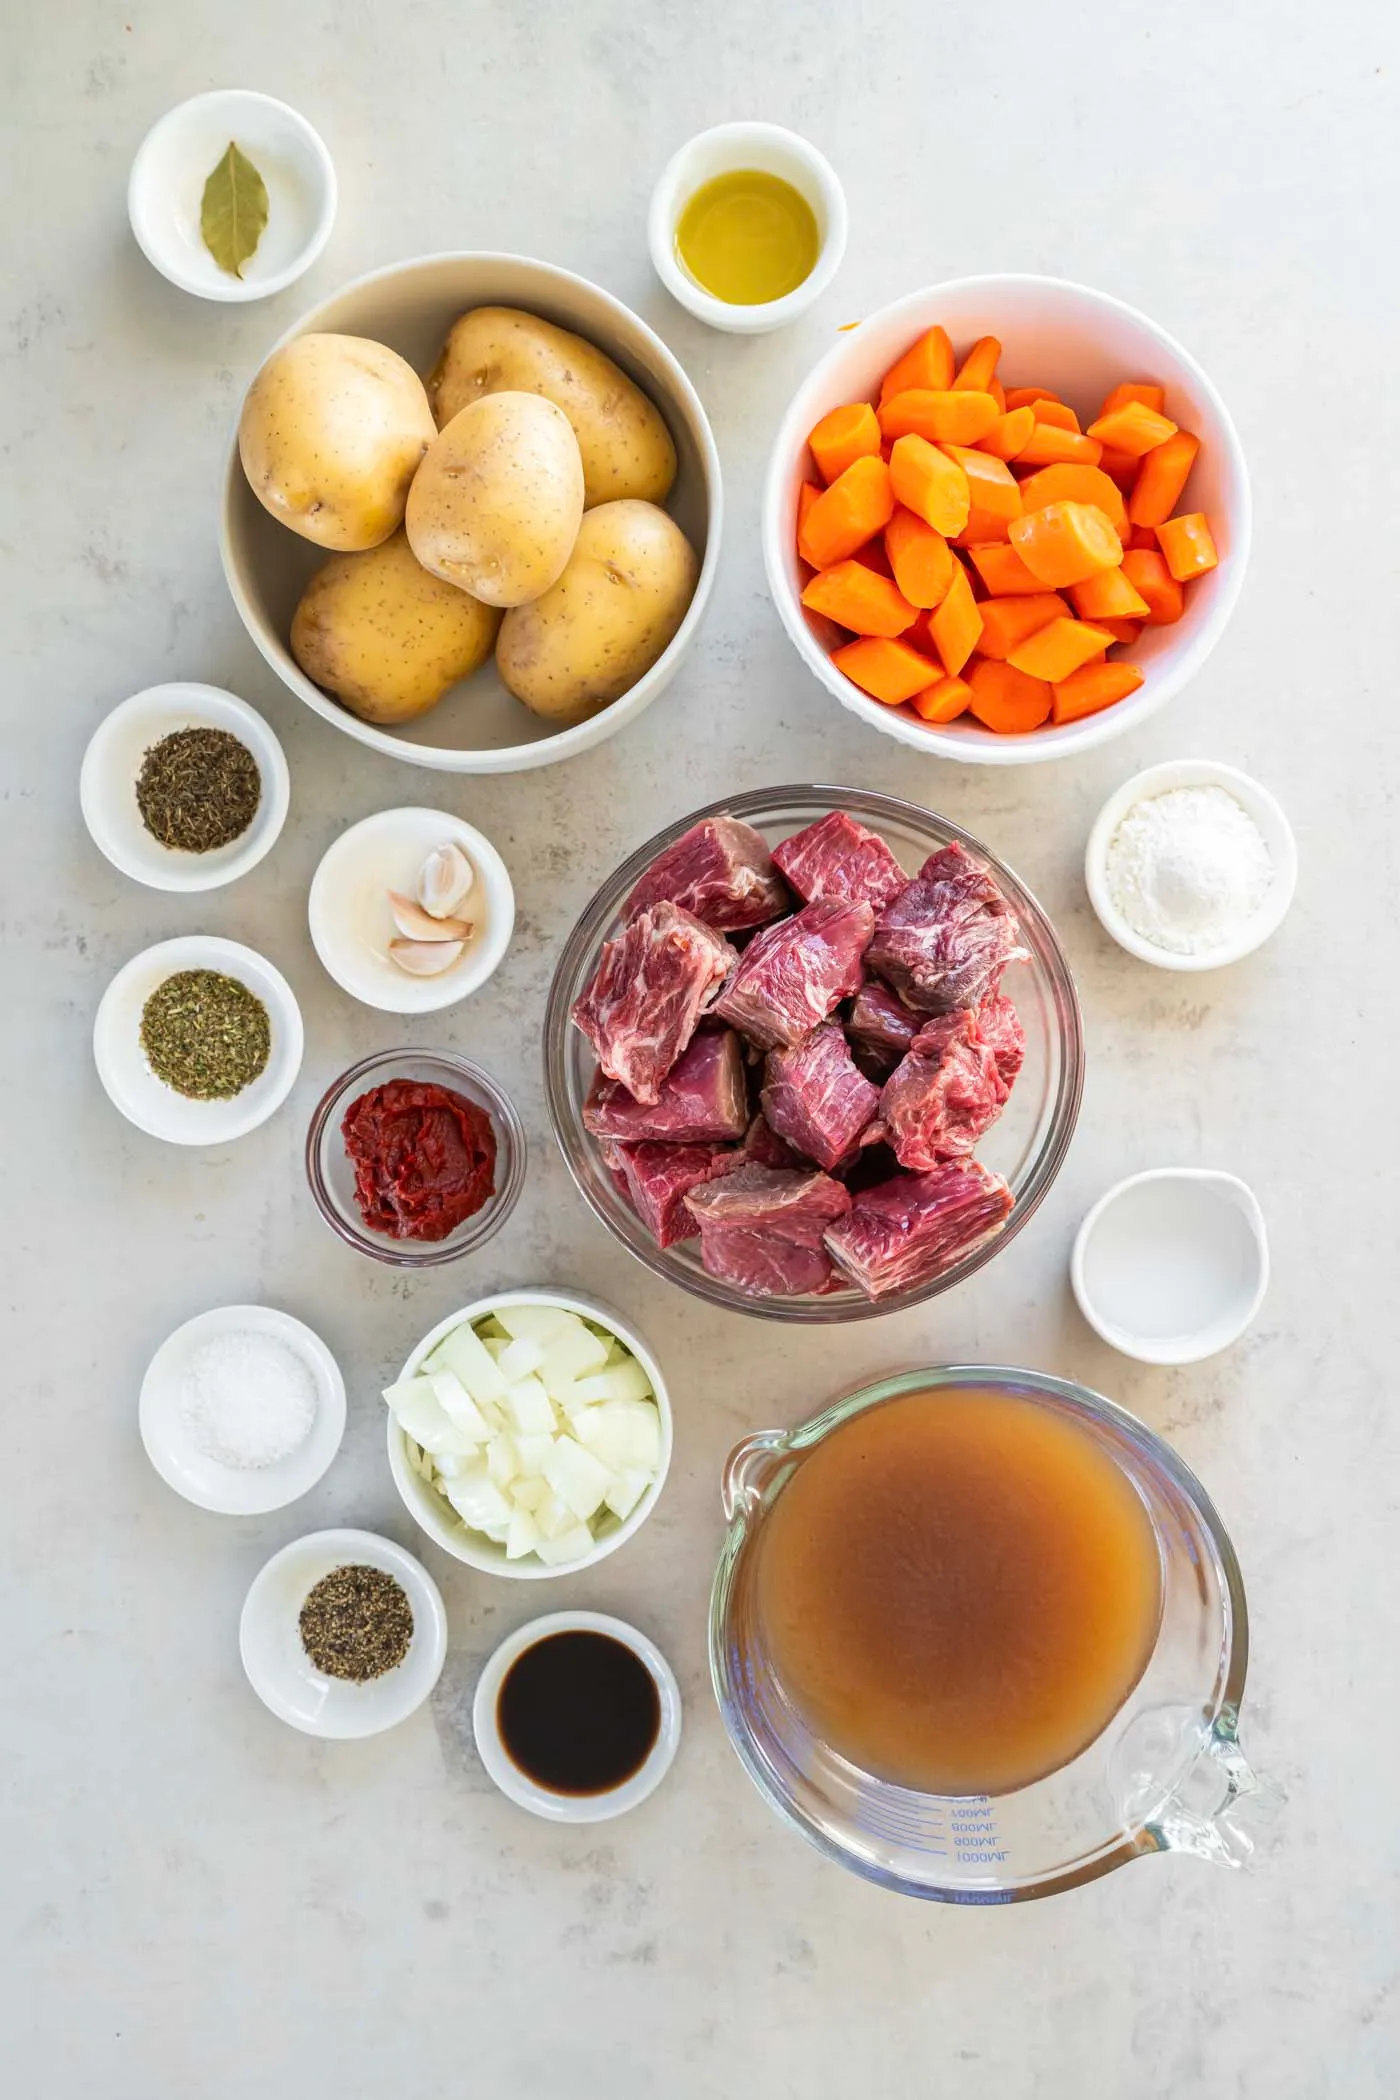Beef: (567, 895, 745, 1105), (673, 1147, 861, 1316), (870, 987, 1041, 1170), (866, 844, 1030, 1022), (828, 1152, 1011, 1297), (766, 791, 909, 948), (720, 906, 866, 1055), (625, 805, 789, 930), (759, 1017, 881, 1181)
Potato: (442, 283, 702, 520), (498, 477, 702, 737), (269, 516, 498, 737), (230, 327, 442, 562), (403, 380, 595, 616)
